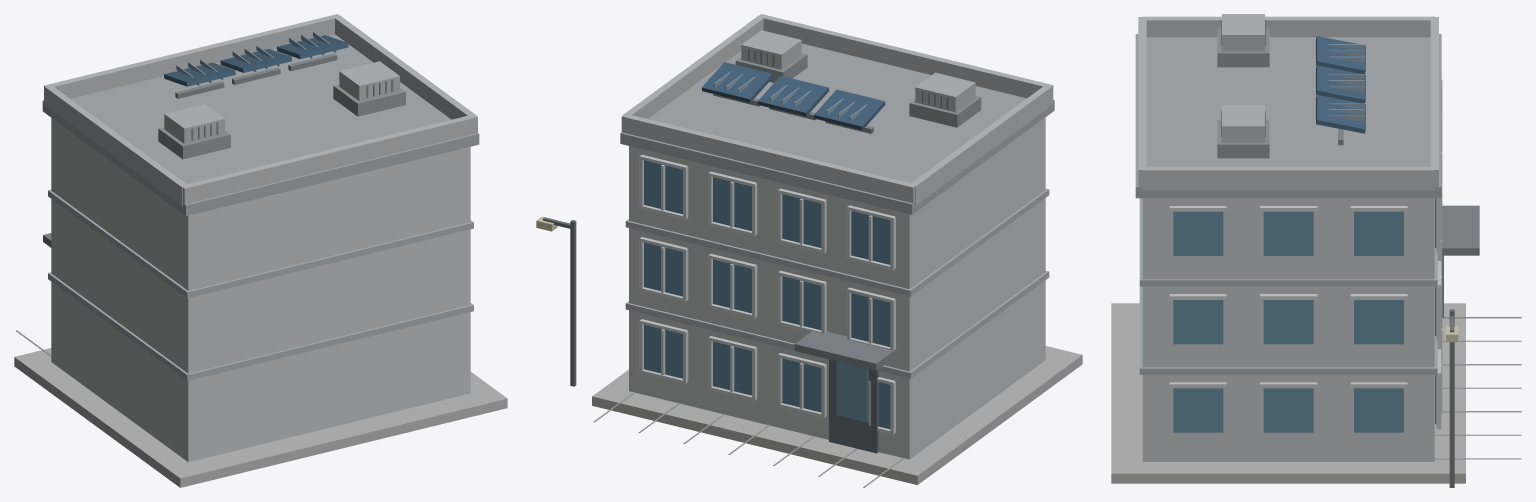
Rendered from gpt.glb.
3 views of the same model, side by side, from view 1: azimuth 30°, elevation 25°; view 2: azimuth 150°, elevation 25°; view 3: azimuth 270°, elevation 25° (orthographic). The views are drawn at different scales.
Visible parts, largest first — view 1: building_main_concrete, roof_slab, sidewalk, parapet_back, parapet_front, parapet_left, facade_band_1.45, facade_band_2.85, parapet_right, hvac_top_1.55, hvac_top_-1.55, hvac_base_-1.55 (+4 smaller); view 2: building_main_concrete, roof_slab, sidewalk, parapet_front, parapet_back, parapet_left, facade_band_2.85, parapet_right, facade_band_1.45, entry_door, entry_canopy, entry_glass (+20 smaller); view 3: building_main_concrete, roof_slab, sidewalk, parapet_right, parapet_left, facade_band_2.85, facade_band_1.45, side_window_0.85_0, side_window_0.85_1.3, side_window_2.25_0, side_window_2.25_1.3, side_window_3.65_0 (+15 smaller).
Boxes of the visible parts, <box> form: building_main_concrete: <box>51,118,470,462</box>; roof_slab: <box>42,34,479,215</box>; sidewalk: <box>14,348,507,487</box>; parapet_back: <box>181,114,477,205</box>; parapet_front: <box>44,14,340,104</box>; parapet_left: <box>45,85,188,206</box>; facade_band_1.45: <box>48,272,473,380</box>; facade_band_2.85: <box>48,189,473,298</box>; parapet_right: <box>335,15,476,119</box>; hvac_top_1.55: <box>339,61,399,101</box>; hvac_top_-1.55: <box>164,104,224,143</box>; hvac_base_-1.55: <box>158,127,230,159</box>; building_main_concrete: <box>629,117,1045,459</box>; roof_slab: <box>620,43,1054,214</box>; sidewalk: <box>592,346,1082,484</box>; parapet_front: <box>621,113,916,204</box>; parapet_back: <box>758,14,1053,104</box>; parapet_left: <box>910,86,1051,204</box>; facade_band_2.85: <box>625,188,1049,296</box>; parapet_right: <box>623,15,764,118</box>; facade_band_1.45: <box>625,271,1049,378</box>; entry_door: <box>829,359,878,453</box>; entry_canopy: <box>794,331,896,370</box>; entry_glass: <box>836,361,868,422</box>; building_main_concrete: <box>1142,198,1434,461</box>; roof_slab: <box>1135,34,1441,198</box>; sidewalk: <box>1111,303,1465,483</box>; parapet_right: <box>1142,166,1434,190</box>; parapet_left: <box>1143,16,1434,37</box>; facade_band_2.85: <box>1139,198,1437,286</box>; facade_band_1.45: <box>1139,286,1437,374</box>; side_window_0.85_0: <box>1263,388,1313,432</box>; side_window_0.85_1.3: <box>1173,388,1223,432</box>; side_window_2.25_0: <box>1263,300,1313,344</box>; side_window_2.25_1.3: <box>1173,300,1223,344</box>; side_window_3.65_0: <box>1263,211,1313,255</box>.
Bounding box in the file's own units: 6.86 × 5.25 × 5.9.
